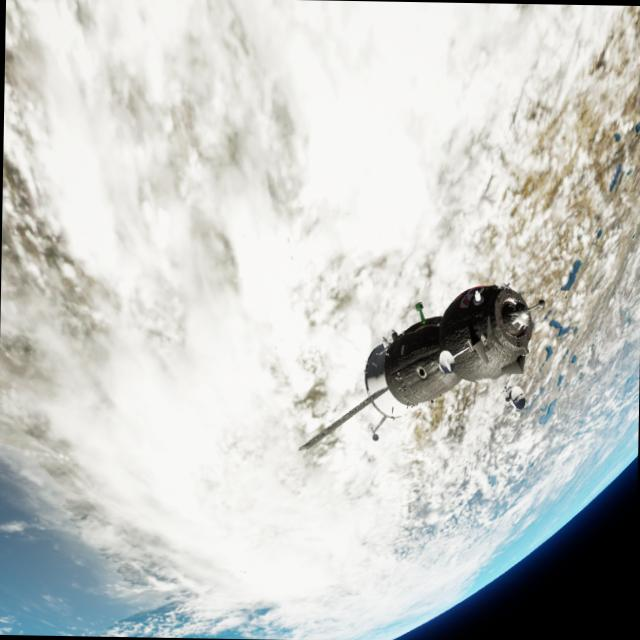Satellites revolving around earth: (295, 276, 544, 458)
